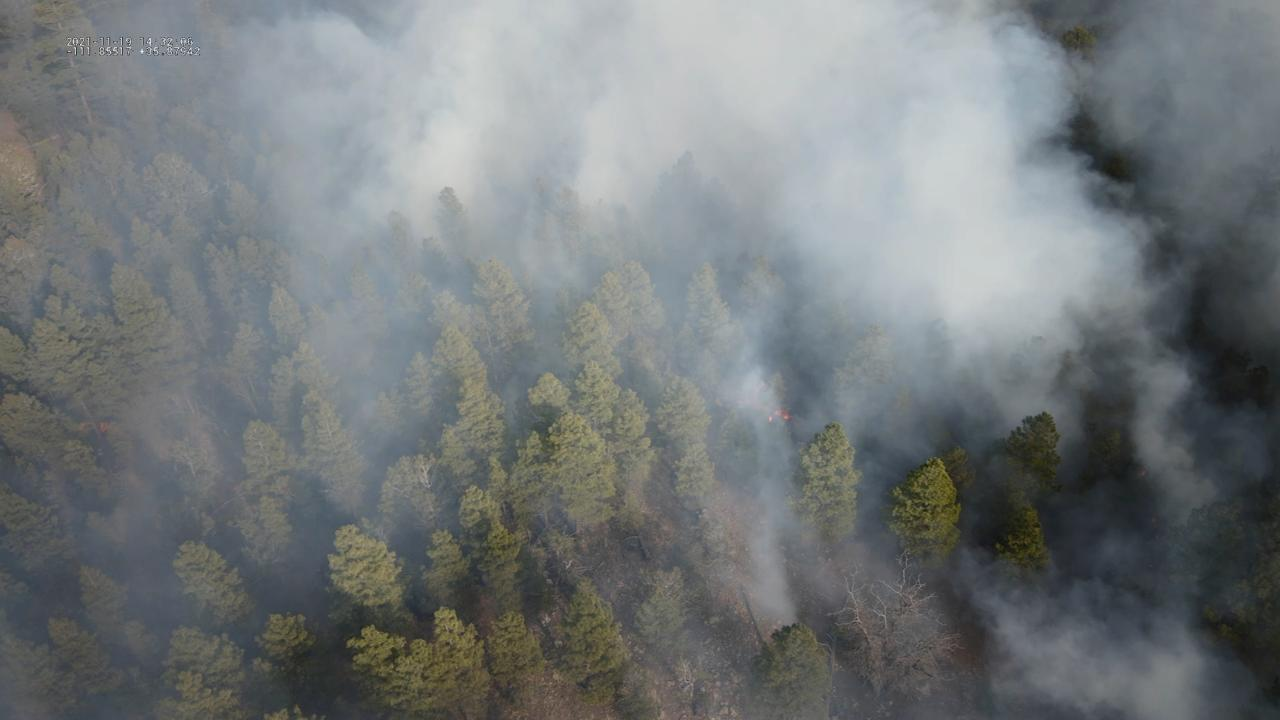fire: (773, 408, 791, 420), (767, 417, 774, 423)
smoke: (0, 0, 1280, 720)
